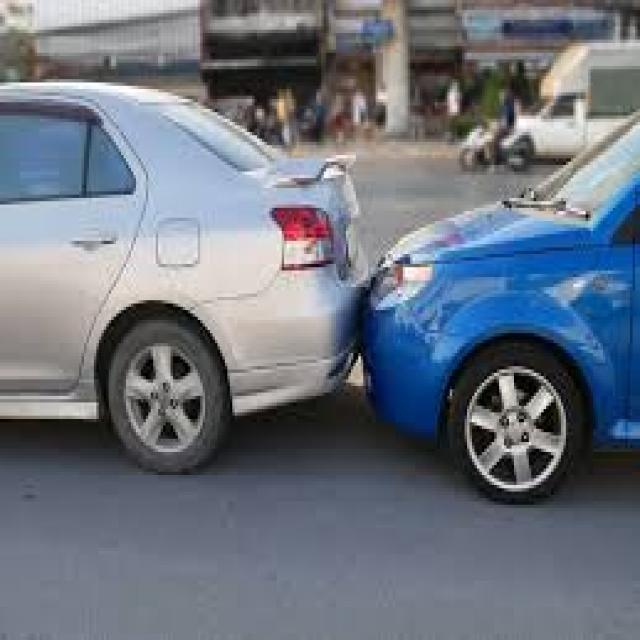accident: (0, 38, 629, 591)
